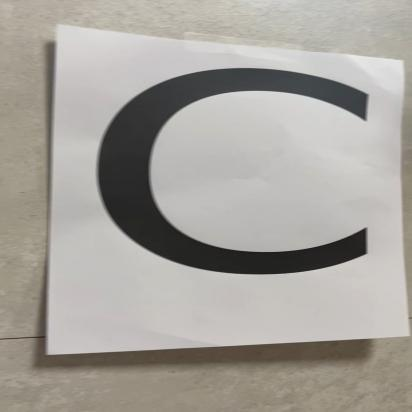seat: (72, 45, 408, 333)
